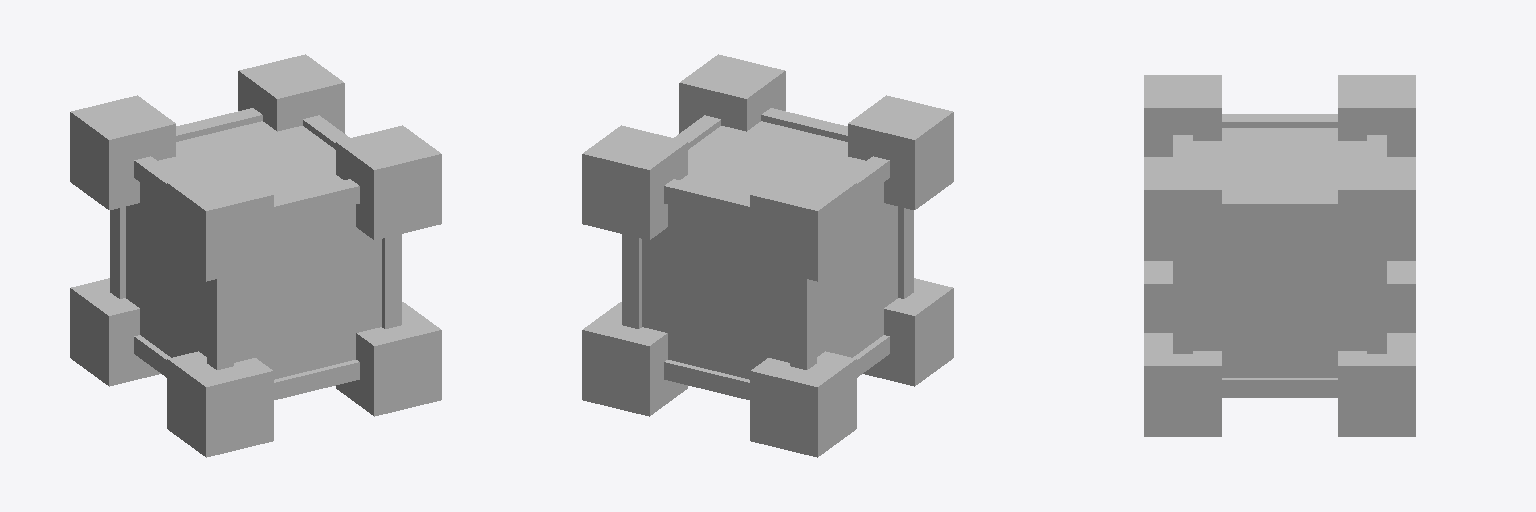
The model's file is BonusHourglass.obj.
3 renders of one model, left to right at view 1: azimuth 30°, elevation 25°; view 2: azimuth 150°, elevation 25°; view 3: azimuth 270°, elevation 25°, orthographic.
Visible parts, largest first — view 1: bonusTime; view 2: bonusTime; view 3: bonusTime.
Part boxes in pixels (bbox=[...]): bonusTime: bbox=[70, 54, 441, 457]; bonusTime: bbox=[582, 54, 953, 457]; bonusTime: bbox=[1144, 75, 1415, 436].
Size of the model in its own units: 2.8 by 2.8 by 2.8.